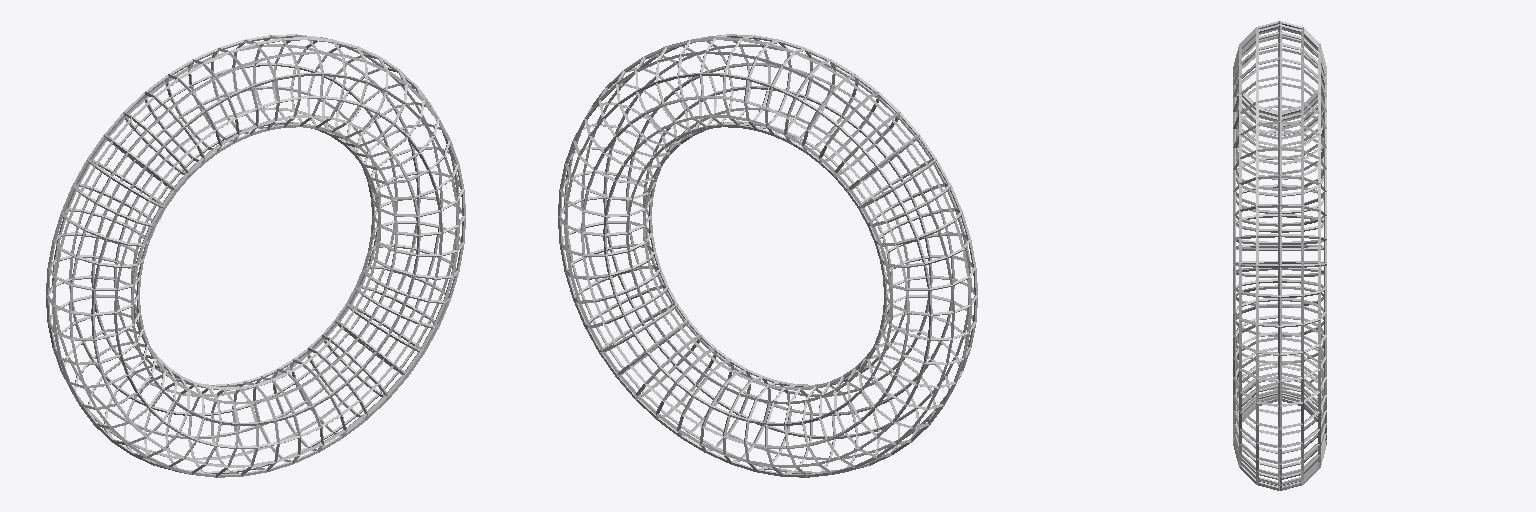
Rendered from TorusWireframe.obj.
3 views of the same model, side by side, from view 1: azimuth 30°, elevation 25°; view 2: azimuth 150°, elevation 25°; view 3: azimuth 270°, elevation 25° (orthographic).
Visible parts, largest first — view 1: Torus.001; view 2: Torus.001; view 3: Torus.001.
Part boxes in pixels (x1,y1,x2,y2): Torus.001: (46, 34, 465, 477); Torus.001: (558, 34, 977, 477); Torus.001: (1233, 21, 1326, 490).
Size of the model in its own units: 200 by 200 by 40.